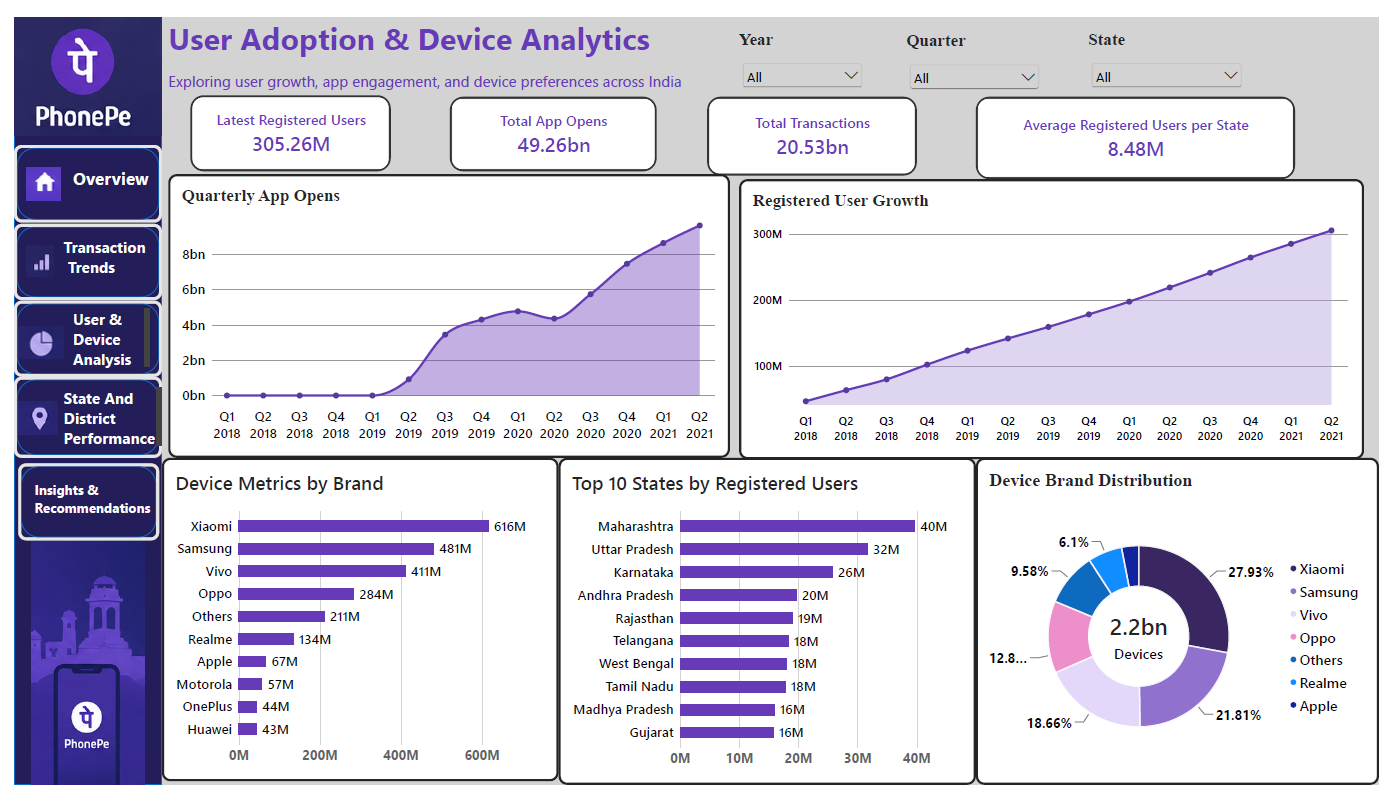

The dashboard page shown, as its layout file describes it:
{"tool":"powerbi","page":{"name":"User & Device Analysis","canvas":[1920,1080],"ordinal":2},"visuals":[{"type":"textbox","box":[217.2,0,741.7,139.9],"z":0},{"type":"slicer","title":"Year","fields":{"Values":["State_Txn and Users.Year"]},"box":[1019.6,18.4,178.5,93.9],"z":1000},{"type":"slicer","title":"Quarter","fields":{"Values":["State_Txn and Users.Quarter"]},"box":[1255.2,20.2,191.4,92],"z":2000},{"type":"slicer","title":"State","fields":{"Values":["State_Txn and Users.State"]},"box":[1511.1,18.4,221.2,94.2],"z":3000},{"type":"cardVisual","fields":{"Data":["State_Txn and Users.Latest Registered Users"]},"box":[248.5,110.4,281.6,106.7],"z":4000},{"type":"cardVisual","fields":{"Data":["State_Txn and Users.Total App Opens"]},"box":[612.9,112.3,290.8,104.9],"z":5000},{"type":"cardVisual","fields":{"Data":["State_Txn and Users.Total Transactions"]},"box":[975.5,112.3,294.5,110.4],"z":6000},{"type":"cardVisual","fields":{"Data":["State_Txn and Users.Average Registered Users per State"]},"box":[1352.8,112.3,449.1,116],"z":7000},{"type":"lineChart","title":"Registered User Growth","fields":{"Category":["State_Txn and Users.Year Quarter"],"Y":["State_Txn and Users.Registered Users by Quarter"]},"box":[1019.6,228.2,879.8,393.9],"z":8000},{"type":"lineChart","title":"Quarterly App Opens","fields":{"Category":["State_Txn and Users.Year Quarter"],"Y":["State_Txn and Users.Total App Opens"]},"box":[217.2,220.9,789.6,399.4],"z":9000},{"type":"donutChart","title":"Device Brand Distribution","fields":{"Category":["State_DeviceData.Brand"],"Y":["Sum(State_DeviceData.Registered Users)"]},"box":[1352.8,620.2,566.9,460.1],"z":10000},{"type":"clusteredBarChart","title":"Device Metrics by Brand","fields":{"Category":["State_DeviceData.Brand"],"Y":["Sum(State_DeviceData.Registered Users)"]},"box":[208,620.2,557.7,454.6],"z":11000},{"type":"clusteredBarChart","title":"Top 10 States by Registered Users","fields":{"Category":["DimState.State"],"Y":["State_Txn and Users.Latest Registered Users"]},"box":[765.6,620.2,587.1,460.1],"z":12000},{"type":"shape","box":[0,0,208,1080.4],"z":13000},{"type":"image","box":[0,736.2,208,344.2],"z":14000},{"type":"image","box":[0,0,208,167.5],"z":15000},{"type":"shape","box":[0,180.4,208,108.6],"z":16000},{"type":"shape","box":[0,290.8,208,106.7],"z":17000},{"type":"shape","box":[0,399.4,208,106.7],"z":18000},{"type":"shape","box":[0,506.1,208,114.1],"z":19000},{"type":"textbox","box":[82.8,209.8,125.2,55.2],"z":20000},{"type":"textbox","box":[69.9,309.2,147.2,82.8],"z":21000},{"type":"textbox","box":[82.8,410.4,108.6,82.8],"z":22000},{"type":"textbox","box":[69.9,520.9,138,82.8],"z":23000},{"type":"image","box":[16.6,208,49.7,53.4],"z":24000},{"type":"image","box":[16.6,316.6,38.7,53.4],"z":25000},{"type":"image","box":[5.5,417.8,64.4,79.1],"z":26000},{"type":"image","box":[5.5,530.1,55.2,68.1],"z":27000},{"type":"shape","box":[5.5,627.6,198.8,108.6],"z":27001},{"type":"textbox","box":[29.4,651.5,220.9,64.4],"z":27002}]}

Visuals, with their boxes in screenshot pixels (x1, y1, x2, y2):
textbox: [left=166, top=11, right=696, bottom=111]
"Year" slicer: [left=740, top=24, right=867, bottom=91]
"Quarter" slicer: [left=908, top=25, right=1045, bottom=91]
"State" slicer: [left=1091, top=24, right=1249, bottom=91]
cardVisual - State_Txn and Users.Latest Registered Users: [left=189, top=90, right=390, bottom=166]
cardVisual - State_Txn and Users.Total App Opens: [left=449, top=91, right=657, bottom=166]
cardVisual - State_Txn and Users.Total Transactions: [left=708, top=91, right=919, bottom=170]
cardVisual - State_Txn and Users.Average Registered Users per State: [left=978, top=91, right=1299, bottom=174]
"Registered User Growth" lineChart: [left=740, top=174, right=1369, bottom=456]
"Quarterly App Opens" lineChart: [left=166, top=169, right=731, bottom=454]
"Device Brand Distribution" donutChart: [left=978, top=454, right=1383, bottom=783]
"Device Metrics by Brand" clusteredBarChart: [left=160, top=454, right=558, bottom=779]
"Top 10 States by Registered Users" clusteredBarChart: [left=558, top=454, right=978, bottom=783]
shape: [left=11, top=11, right=160, bottom=783]
image: [left=11, top=537, right=160, bottom=783]
image: [left=11, top=11, right=160, bottom=131]
shape: [left=11, top=140, right=160, bottom=218]
shape: [left=11, top=219, right=160, bottom=295]
shape: [left=11, top=296, right=160, bottom=373]
shape: [left=11, top=373, right=160, bottom=454]
textbox: [left=70, top=161, right=160, bottom=200]
textbox: [left=61, top=232, right=166, bottom=291]
textbox: [left=70, top=304, right=148, bottom=364]
textbox: [left=61, top=383, right=160, bottom=443]
image: [left=23, top=160, right=58, bottom=198]
image: [left=23, top=237, right=50, bottom=275]
image: [left=15, top=310, right=61, bottom=366]
image: [left=15, top=390, right=54, bottom=439]
shape: [left=15, top=460, right=157, bottom=537]
textbox: [left=32, top=477, right=190, bottom=523]
